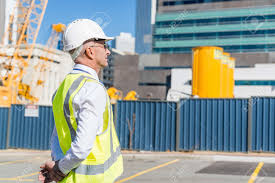casque: (42, 14, 136, 183)
